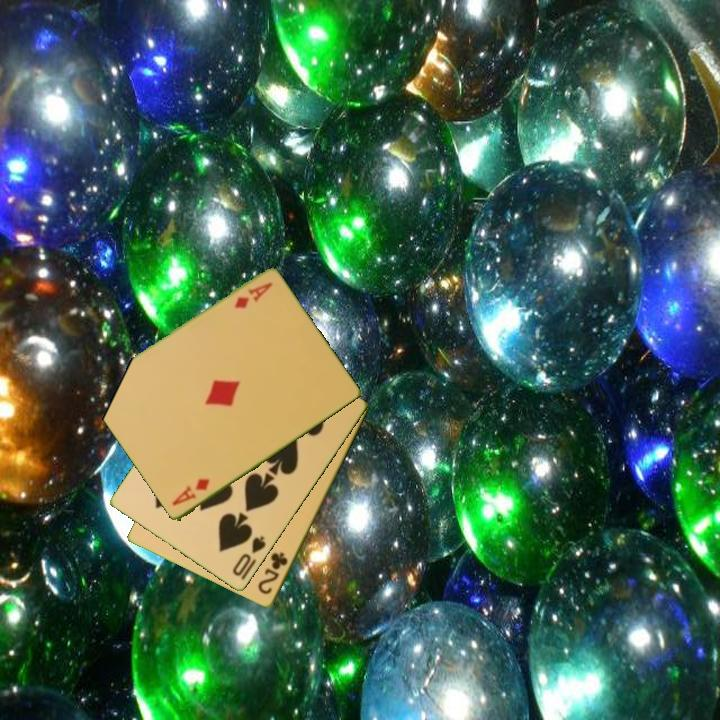10s: (229, 533, 269, 580)
2c: (254, 549, 291, 598)
Ad: (168, 475, 213, 509), (231, 279, 275, 312)
